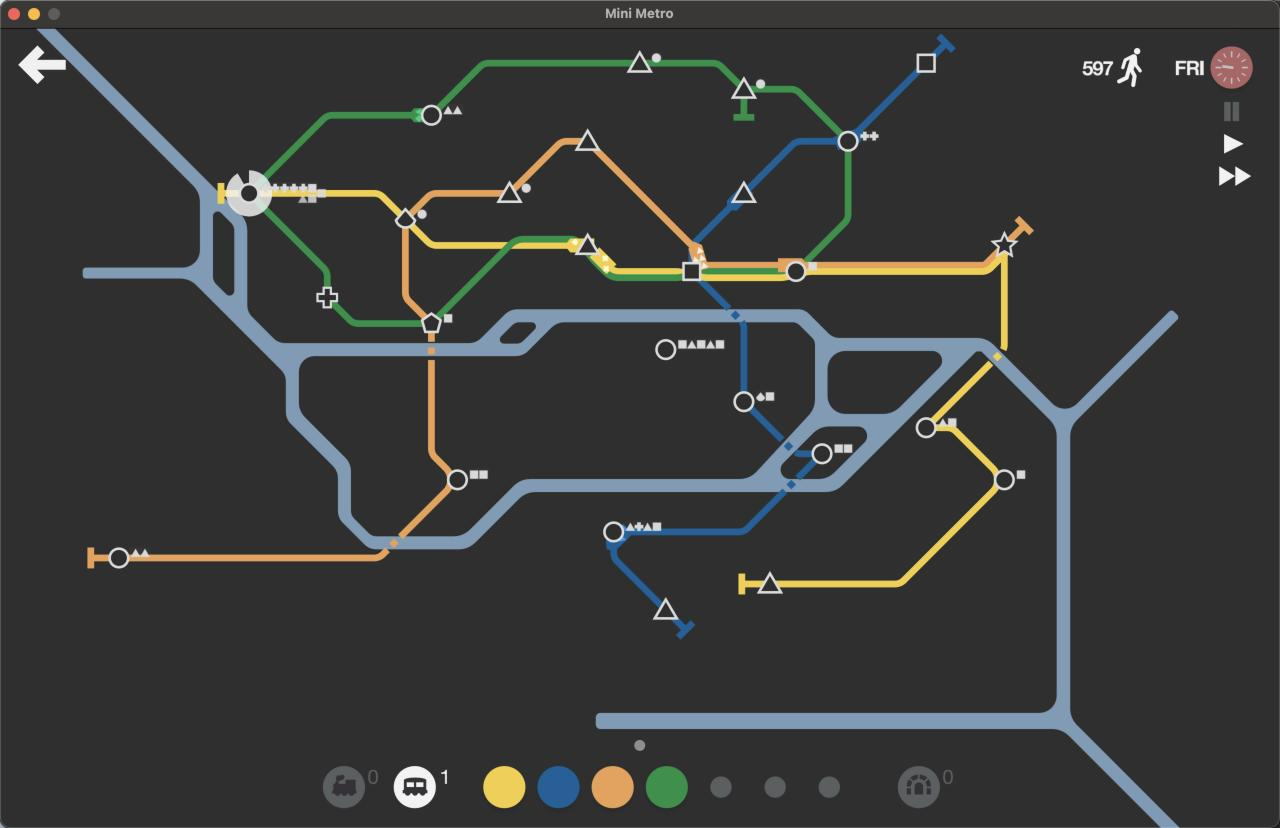CIRCLE: (733, 390, 756, 414), (810, 442, 833, 466), (420, 104, 443, 127), (915, 416, 938, 439), (837, 129, 859, 152), (994, 468, 1016, 491), (603, 521, 625, 544), (655, 338, 677, 361), (786, 260, 808, 282), (108, 547, 130, 569), (447, 468, 468, 491), (240, 184, 258, 201)
CROSS: (316, 286, 338, 308)
PENTAGON: (420, 312, 442, 335)
SQUARE: (681, 260, 703, 281), (916, 53, 935, 73)
STAR: (990, 234, 1017, 258)
TRIANGLE: (626, 49, 654, 74), (653, 596, 680, 621), (730, 75, 757, 100), (731, 179, 757, 204), (756, 571, 783, 594), (497, 180, 523, 203), (575, 128, 600, 151), (574, 233, 599, 256)
WEDGE: (395, 207, 417, 229)
